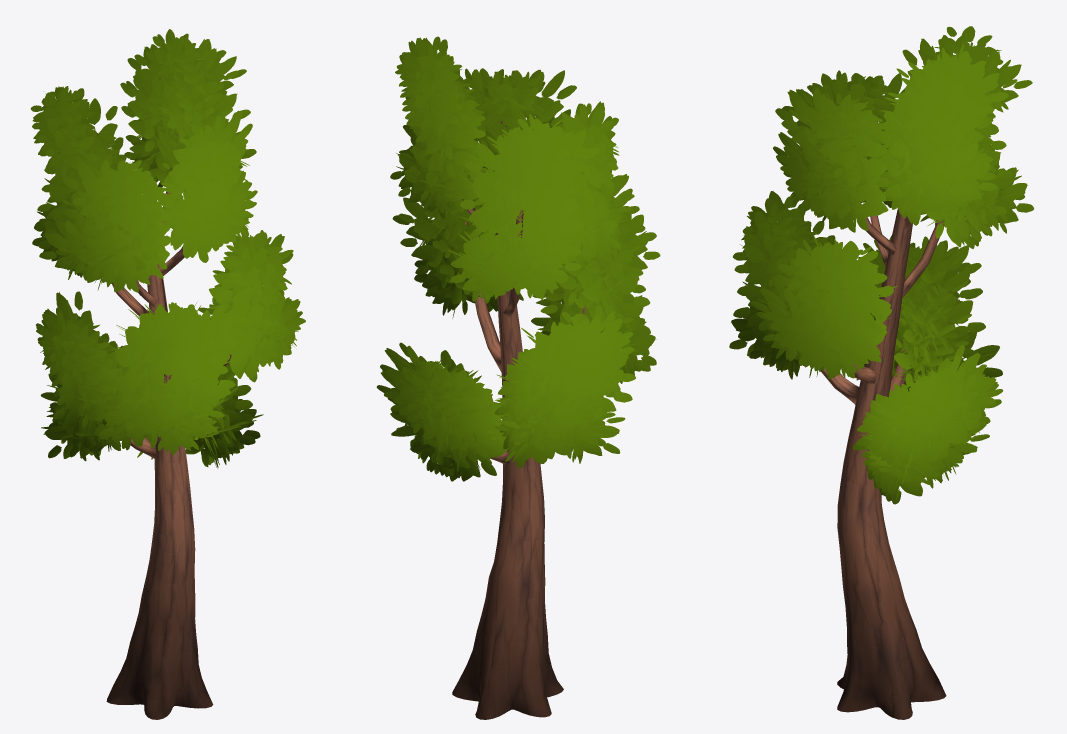
Rendered from commontree_3.gltf.
3 views of the same model, side by side, from view 1: azimuth 30°, elevation 25°; view 2: azimuth 150°, elevation 25°; view 3: azimuth 270°, elevation 25° (orthographic). The views are drawn at different scales.
Visible parts, largest first — view 1: CommonTree_3; view 2: CommonTree_3; view 3: CommonTree_3.
Boxes of the visible parts, left/top/right/bottom form: CommonTree_3: left=30, top=29, right=305, bottom=719; CommonTree_3: left=376, top=36, right=660, bottom=719; CommonTree_3: left=729, top=26, right=1033, bottom=719.
Size of the model in its own units: 4.06 by 9.43 by 4.24.
Materials: 2 (2 with a texture image).
